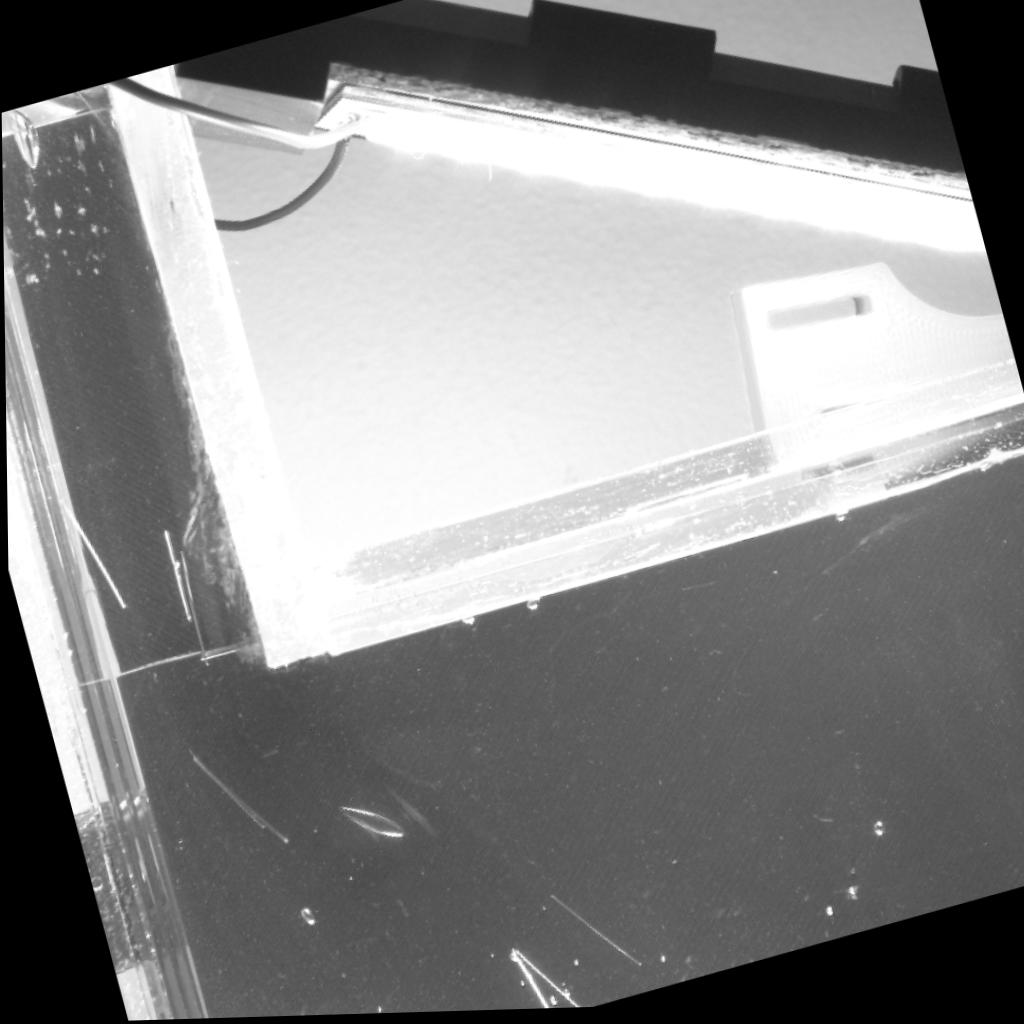Fiber: (49, 496, 127, 610), (190, 757, 286, 846), (545, 894, 641, 975), (183, 751, 262, 835), (506, 947, 581, 1011), (175, 544, 208, 663), (152, 527, 189, 627), (498, 949, 550, 1012)
